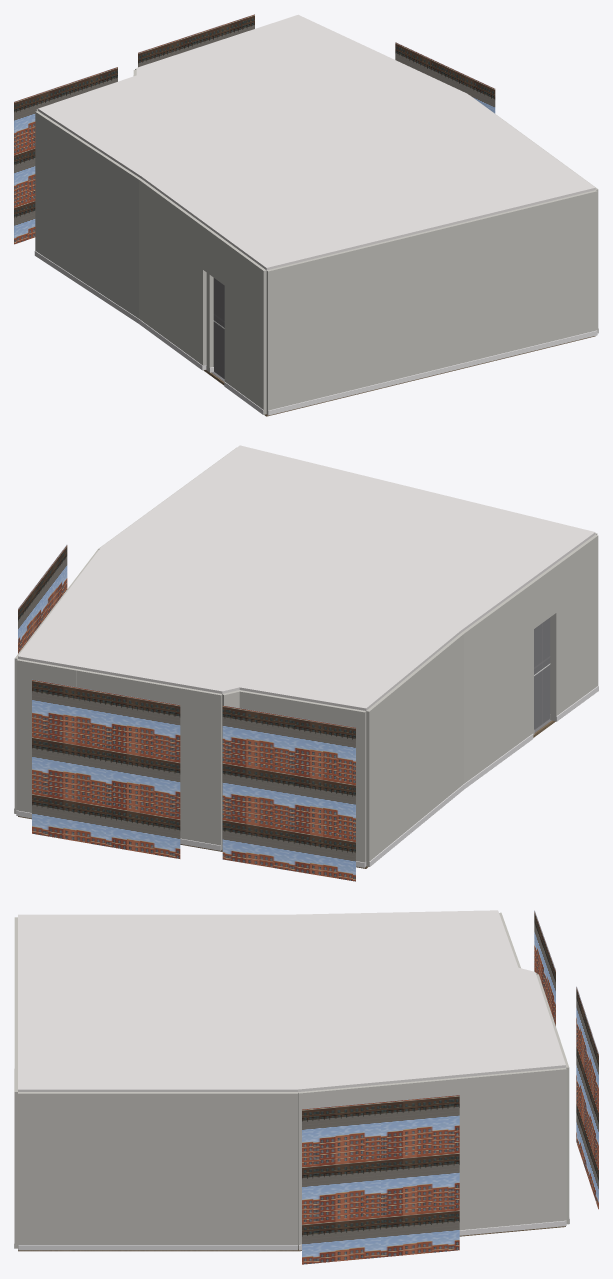
File: twobed_v5.glb
The picture shows the model from 3 angles, top to bottom: view 1: azimuth 30°, elevation 25°; view 2: azimuth 150°, elevation 25°; view 3: azimuth 270°, elevation 25°; orthographic projection. The views are drawn at different scales.
Visible parts, largest first — view 1: Ceiling, Wall_ext_5, Wall_ext_7, Wall_ext_6.001, Wall_ext_6, Window_0_POSITION_UNSOURCED_backdrop, Window_3_POSITION_UNSOURCED_backdrop, Wall_ext_5_skirting, Window_2_POSITION_UNSOURCED_backdrop, Bath_wall_tile_W, Wall_ext_6_lintel, Wall_bath_north (+1 smaller); view 2: Ceiling, Window_2_POSITION_UNSOURCED_backdrop, Window_0_POSITION_UNSOURCED_backdrop, Wall_ext_7, Wall_ext_6.001, Wall_ext_6, Wall_ext_2, Wall_ext_2.001, Window_3_POSITION_UNSOURCED_backdrop, Wall_ext_0, Bath_wall_tile_W, Wall_ext_2_above_head (+6 smaller); view 3: Ceiling, Wall_ext_4, Window_3_POSITION_UNSOURCED_backdrop, Wall_ext_3, Window_2_POSITION_UNSOURCED_backdrop, Wall_ext_4_skirting, Wall_ext_3_above_head, Wall_ext_5, Window_0_POSITION_UNSOURCED_backdrop, Wall_ext_3_lintel, Wall_ext_3.001, Floor_continuous_oak (+2 smaller).
Part boxes in pixels (<box>): Ceiling: <box>38,14,595,270</box>; Wall_ext_5: <box>266,190,597,414</box>; Wall_ext_7: <box>35,111,141,318</box>; Wall_ext_6.001: <box>139,179,206,365</box>; Wall_ext_6: <box>224,242,266,414</box>; Window_0_POSITION_UNSOURCED_backdrop: <box>14,67,117,244</box>; Window_3_POSITION_UNSOURCED_backdrop: <box>395,42,495,113</box>; Wall_ext_5_skirting: <box>268,330,597,415</box>; Window_2_POSITION_UNSOURCED_backdrop: <box>138,14,254,67</box>; Bath_wall_tile_W: <box>213,278,224,378</box>; Wall_ext_6_lintel: <box>203,226,227,285</box>; Wall_bath_north: <box>206,273,213,372</box>; Ceiling: <box>18,445,595,710</box>; Window_2_POSITION_UNSOURCED_backdrop: <box>32,679,180,858</box>; Window_0_POSITION_UNSOURCED_backdrop: <box>222,705,355,881</box>; Wall_ext_7: <box>366,633,463,866</box>; Wall_ext_6.001: <box>461,583,532,783</box>; Wall_ext_6: <box>550,534,598,721</box>; Wall_ext_2: <box>161,683,222,850</box>; Wall_ext_2.001: <box>16,659,77,812</box>; Window_3_POSITION_UNSOURCED_backdrop: <box>18,545,67,653</box>; Wall_ext_0: <box>336,706,366,867</box>; Bath_wall_tile_W: <box>534,617,550,729</box>; Wall_ext_2_above_head: <box>76,669,161,697</box>; Ceiling: <box>18,910,565,1091</box>; Wall_ext_4: <box>18,1092,297,1244</box>; Window_3_POSITION_UNSOURCED_backdrop: <box>302,1095,459,1264</box>; Wall_ext_3: <box>418,1067,566,1230</box>; Window_2_POSITION_UNSOURCED_backdrop: <box>576,986,598,1209</box>; Wall_ext_4_skirting: <box>18,1245,297,1250</box>; Wall_ext_3_above_head: <box>328,1081,418,1103</box>; Wall_ext_5: <box>14,917,17,1248</box>; Window_0_POSITION_UNSOURCED_backdrop: <box>534,910,555,1025</box>; Wall_ext_3_lintel: <box>328,1082,418,1106</box>; Wall_ext_3.001: <box>298,1089,328,1249</box>; Floor_continuous_oak: <box>18,1226,565,1251</box>.
Bounding box in the file's own units: 8.17 × 3.1 × 10.15.
19 materials, 19 textured.
